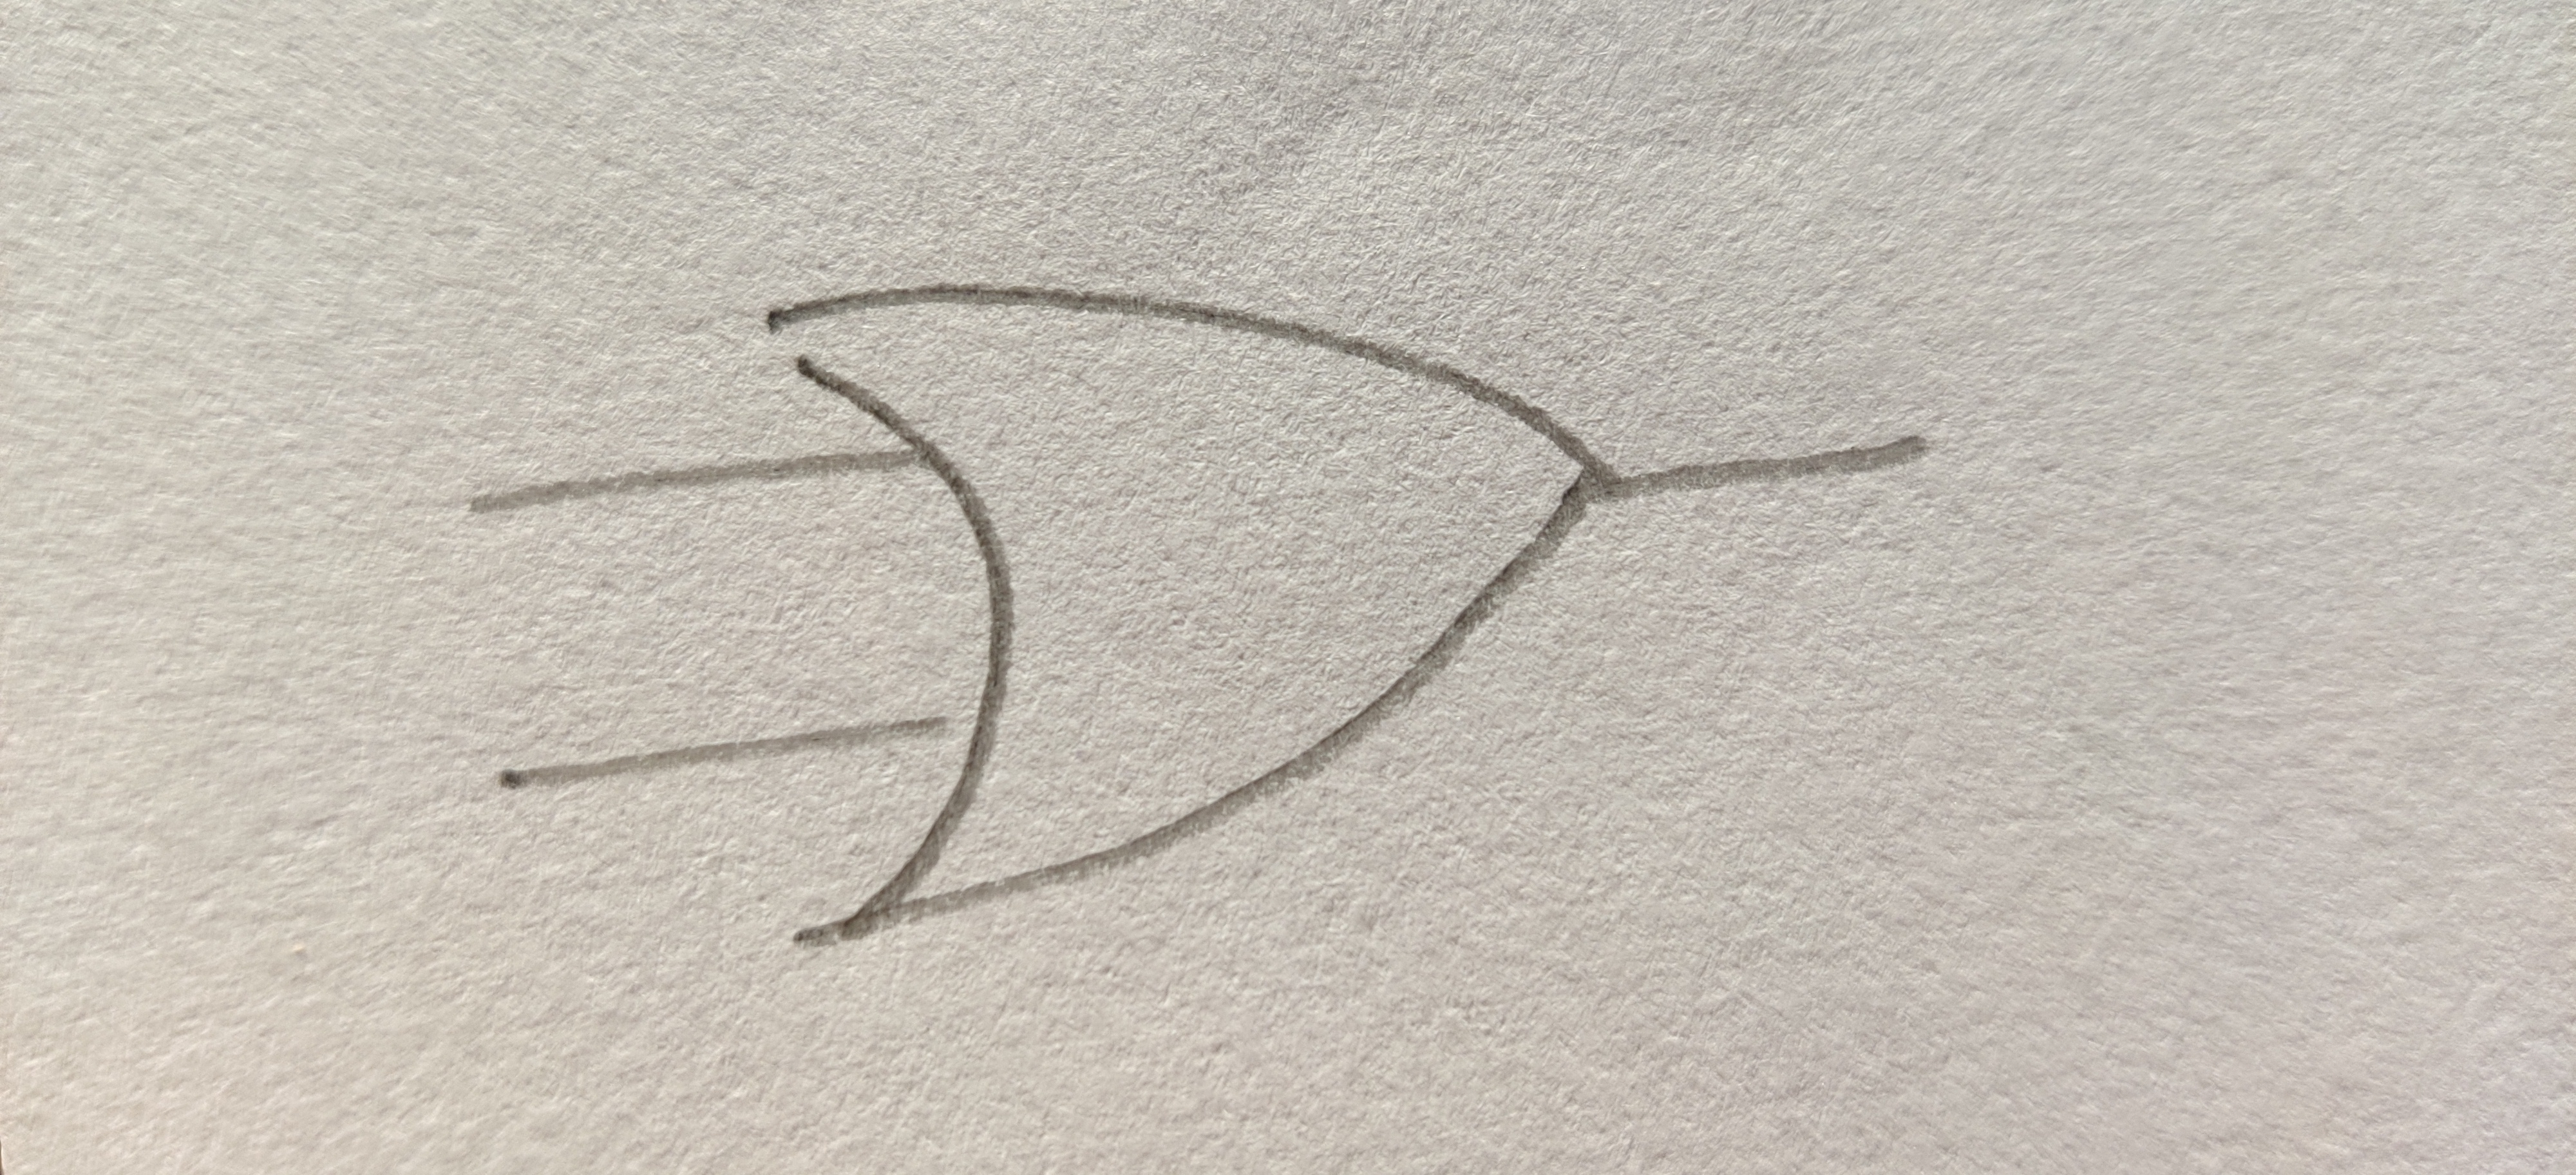or: (780, 286, 1602, 927)
